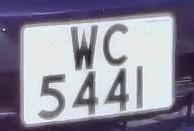1: (130, 65, 153, 113)
4: (70, 70, 104, 120), (103, 66, 133, 117)
5: (35, 71, 72, 123)
C: (100, 21, 135, 68)
W: (67, 23, 101, 74)
